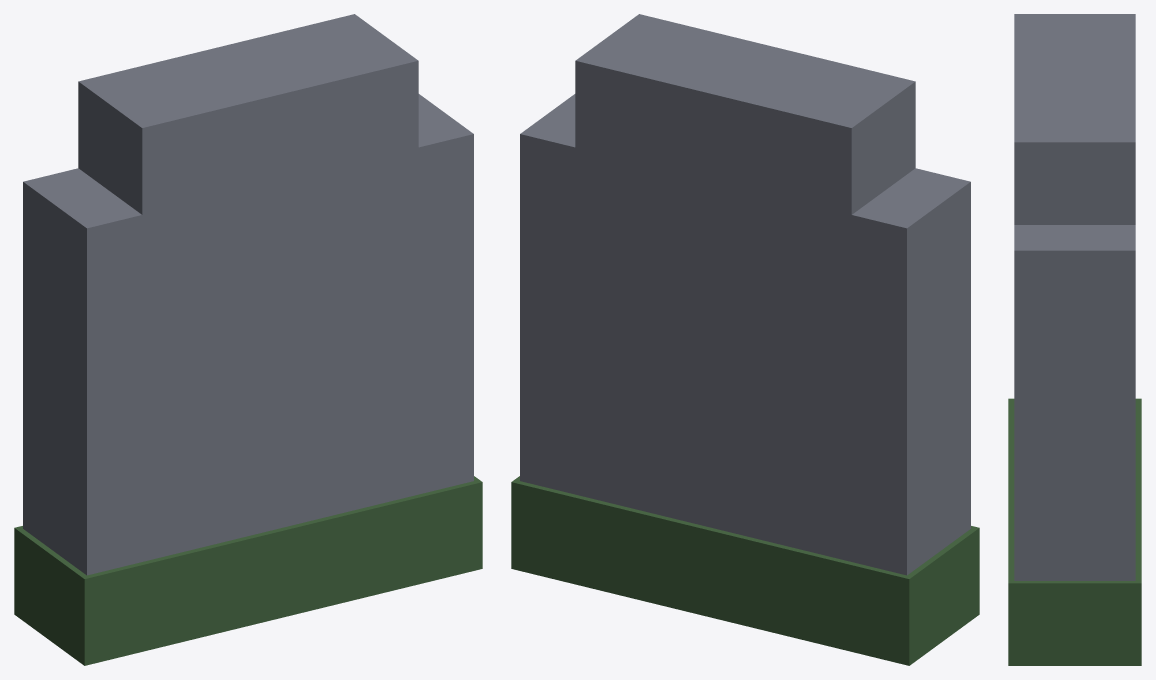
The model's file is grave.glb.
3 views of the same model, side by side, from view 1: azimuth 30°, elevation 25°; view 2: azimuth 150°, elevation 25°; view 3: azimuth 270°, elevation 25° (orthographic). The views are drawn at different scales.
Parts seen in each view (by area): view 1: grave; view 2: grave; view 3: grave.
Part boxes in pixels (box(x1,y1,x2,y2)): grave: box(14, 14, 482, 665); grave: box(511, 14, 979, 665); grave: box(1008, 14, 1141, 665).
Size of the model in its own units: 0.72 by 0.9 by 0.22.
Materials: 1 (1 with a texture image).
